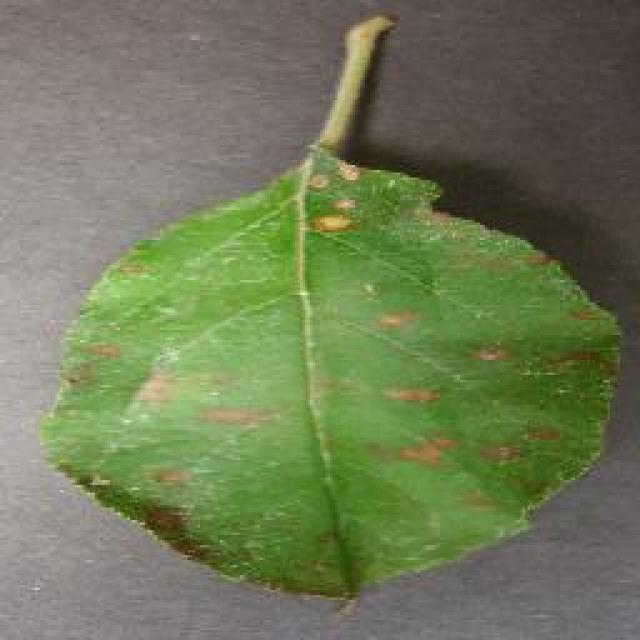apple cedar apple rust: (35, 10, 625, 605)
